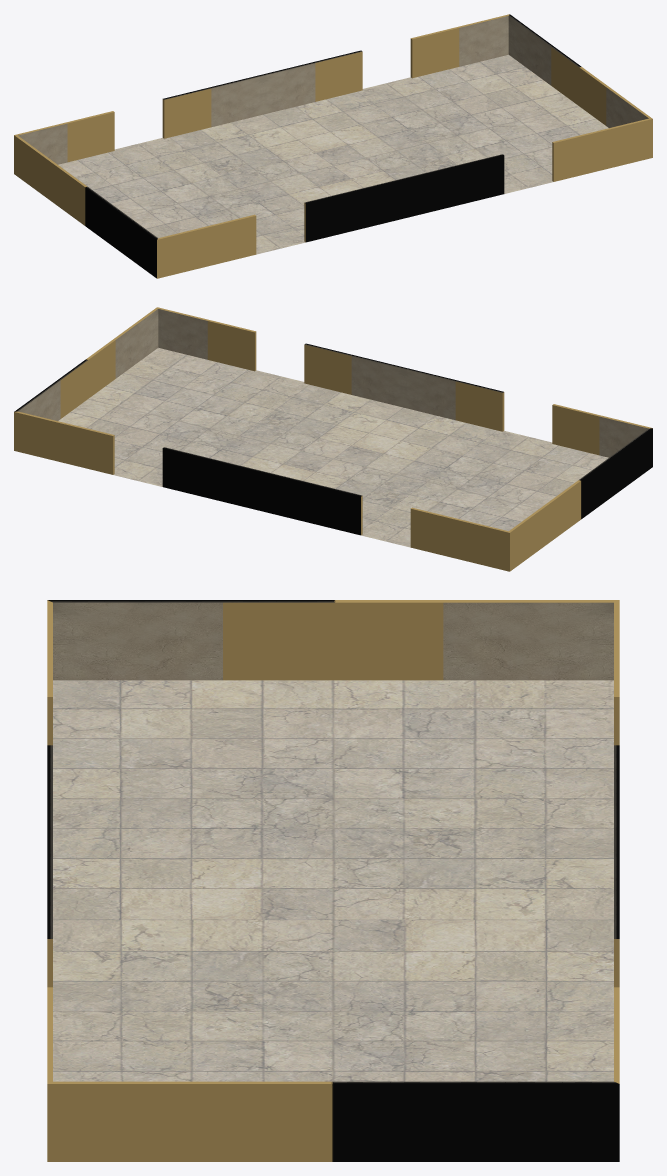
File: Room2x1_4Exits.fbx
3 renders of one model, top to bottom at view 1: azimuth 30°, elevation 25°; view 2: azimuth 150°, elevation 25°; view 3: azimuth 270°, elevation 25°, orthographic. The views are drawn at different scales.
Parts seen in each view (by area): view 1: Room2x1_4Exits; view 2: Room2x1_4Exits; view 3: Room2x1_4Exits.
Boxes of the visible parts, box(x1,y1,x2,y2) form: Room2x1_4Exits: box(14, 14, 652, 278); Room2x1_4Exits: box(14, 307, 652, 571); Room2x1_4Exits: box(47, 600, 619, 1161).
Size of the model in its own units: 20 by 1.5 by 10.
1 material, 1 textured.
